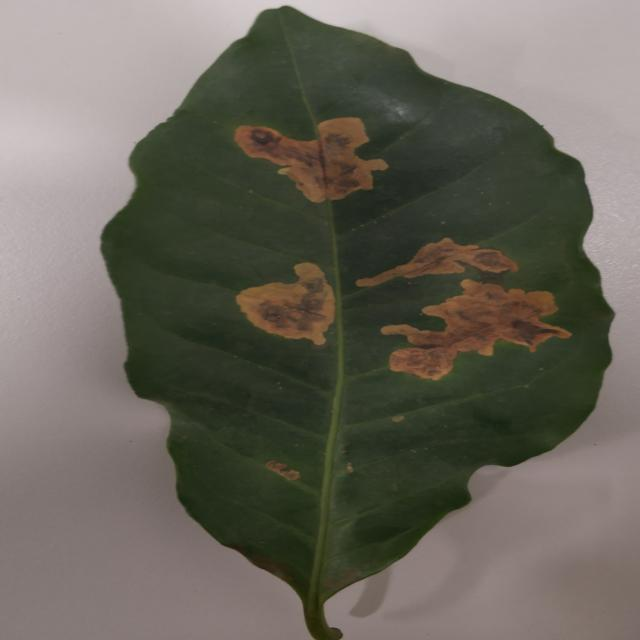Plaga-Minador: (99, 6, 616, 640)
